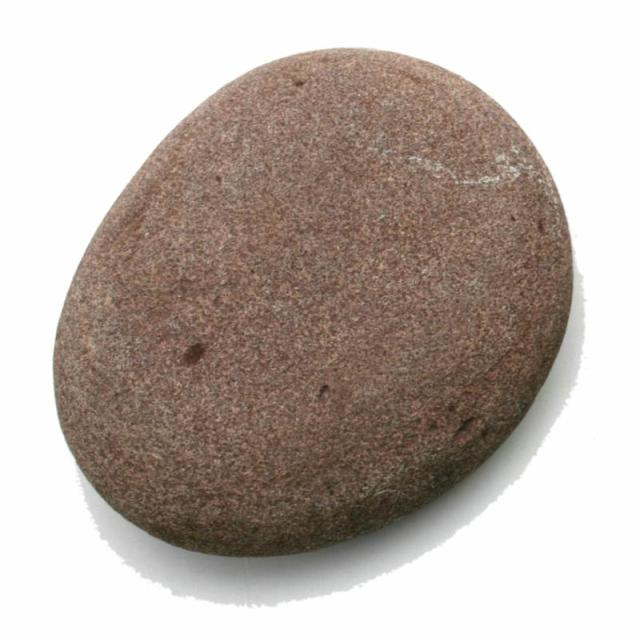Sedimentary: (49, 43, 578, 568)
